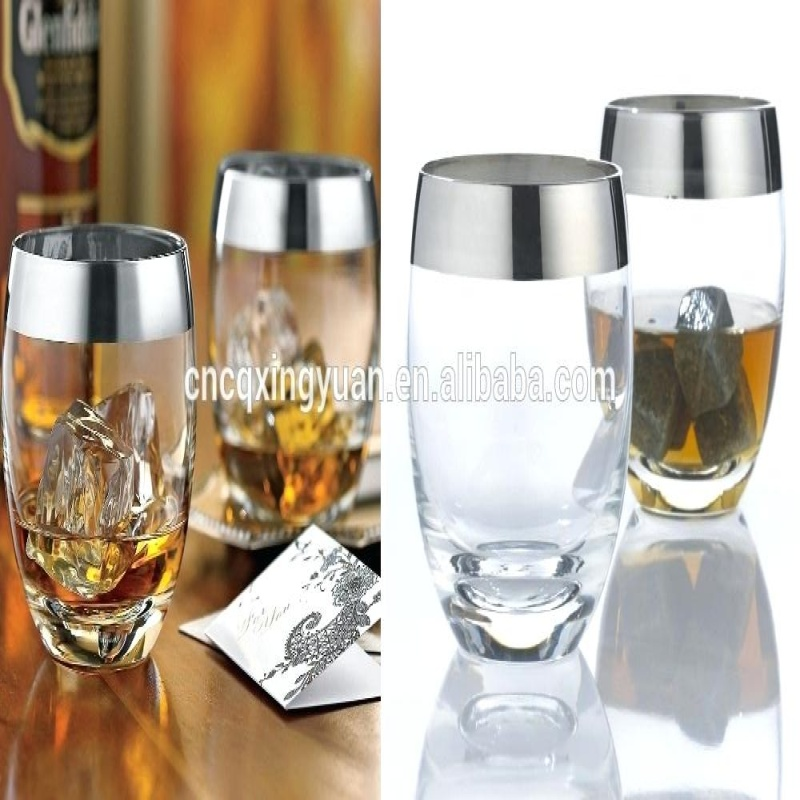whiskey: (11, 227, 194, 683), (600, 104, 788, 515), (215, 154, 381, 521)
